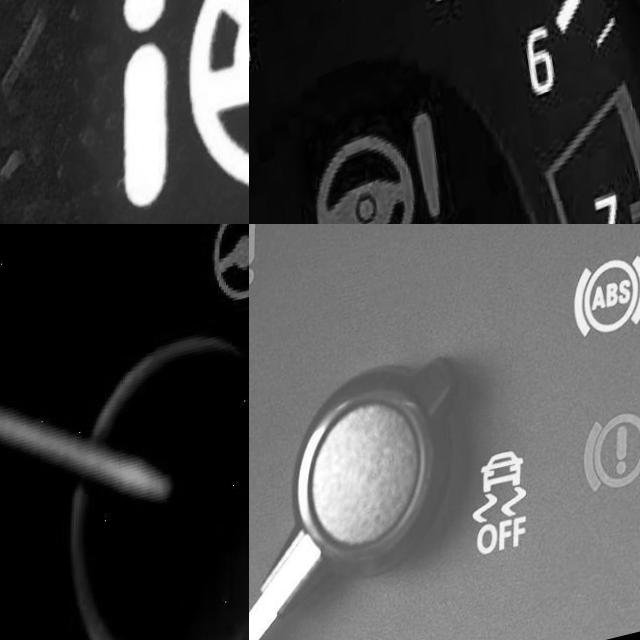Electronic Power Steering: (117, 0, 249, 224), (316, 123, 452, 224)
Electronic Power Steering Warning: (208, 224, 249, 332)
